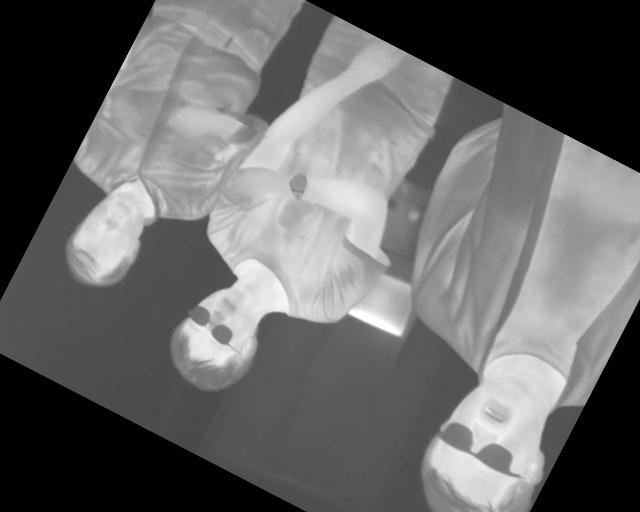face: (398, 357, 577, 512), (151, 271, 278, 406), (52, 177, 162, 300)
